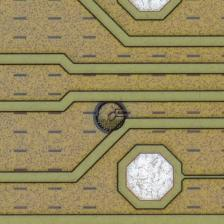PIQ PARTICLE: (89, 95, 133, 139)
